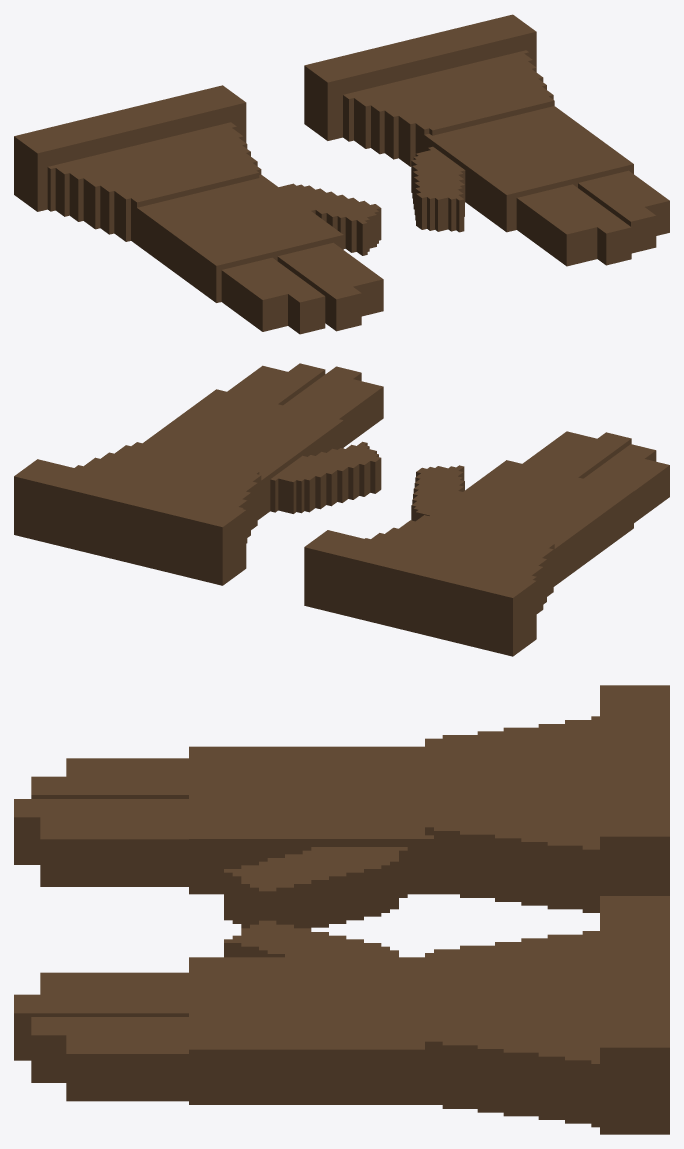
Rendered from gloves_fur.glb.
3 renders of one model, top to bottom at view 1: azimuth 30°, elevation 25°; view 2: azimuth 150°, elevation 25°; view 3: azimuth 270°, elevation 25°, orthographic. The views are drawn at different scales.
Visible parts, largest first — view 1: gloves_fur:compound; view 2: gloves_fur:compound; view 3: gloves_fur:compound.
Boxes of the visible parts, left/top/right/bottom form: gloves_fur:compound: left=14, top=14, right=669, bottom=334; gloves_fur:compound: left=14, top=363, right=669, bottom=656; gloves_fur:compound: left=14, top=685, right=669, bottom=1134.
Bounding box in the file's own units: 0.392 × 0.044 × 0.3.
